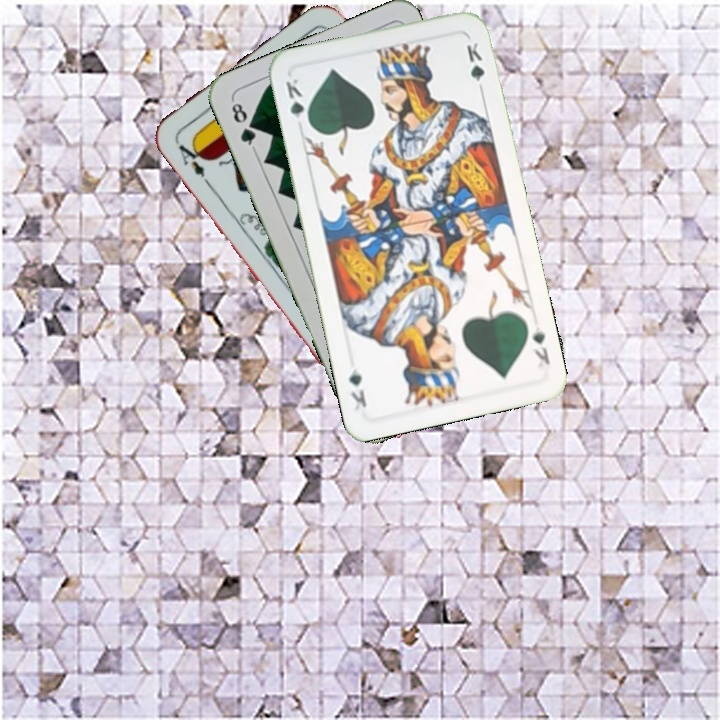EA: (172, 136, 208, 180)
G8: (227, 96, 259, 152)
GK: (281, 74, 313, 129), (528, 322, 553, 371)
